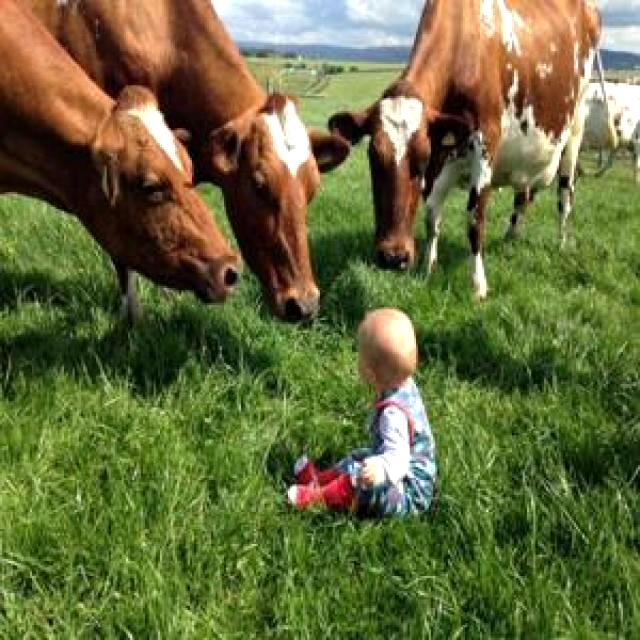COW: (32, 0, 320, 320), (330, 0, 600, 297), (0, 0, 240, 301)
